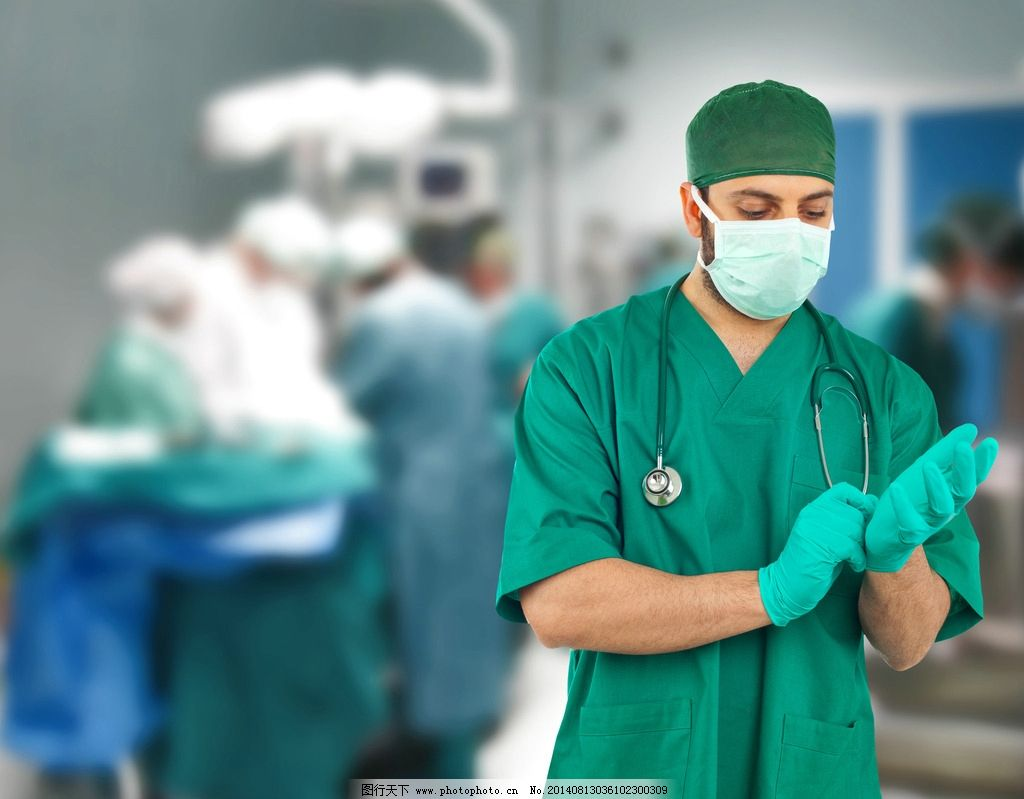mask: (703, 221, 834, 320)
